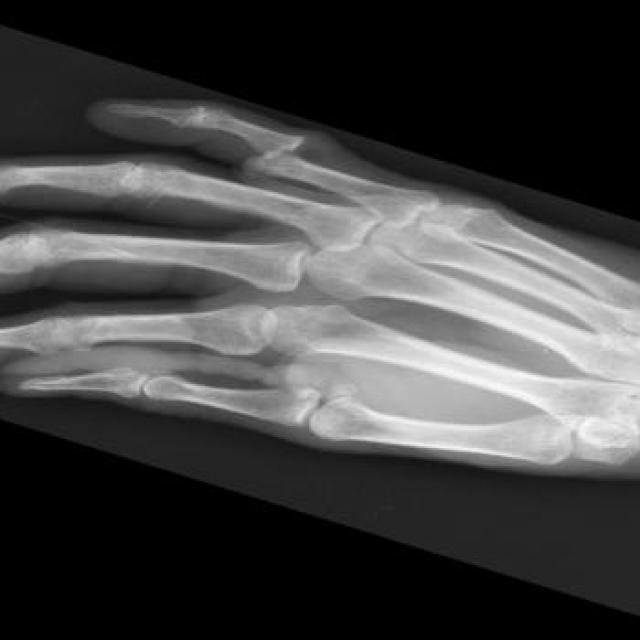Fracture: (241, 122, 322, 174)
